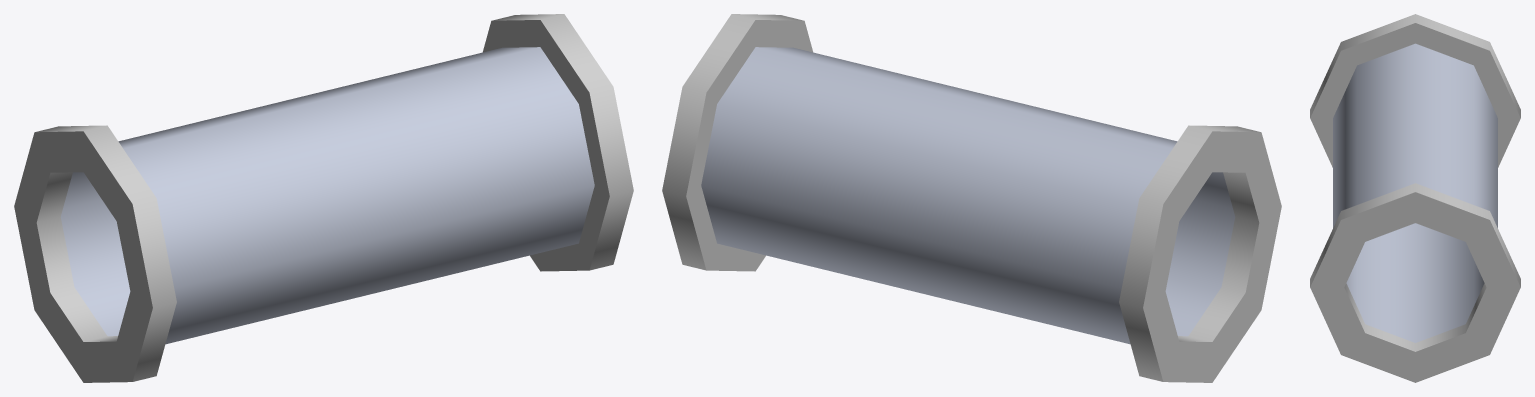
Rendered from pipe-glass-large-long.obj.
3 renders of one model, left to right at view 1: azimuth 30°, elevation 25°; view 2: azimuth 150°, elevation 25°; view 3: azimuth 270°, elevation 25°, orthographic. The views are drawn at different scales.
Visible parts, largest first — view 1: pipe-glass-large-long; view 2: pipe-glass-large-long; view 3: pipe-glass-large-long.
Part boxes in pixels (bbox=[...]): pipe-glass-large-long: bbox=[14, 14, 633, 382]; pipe-glass-large-long: bbox=[662, 14, 1281, 382]; pipe-glass-large-long: bbox=[1310, 14, 1520, 382].
Size of the model in its own units: 2 by 1 by 1.
